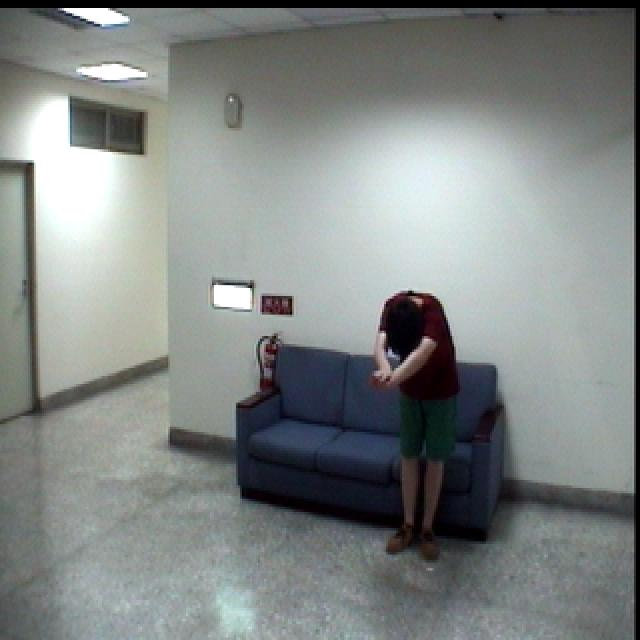bend: (366, 283, 462, 566)
